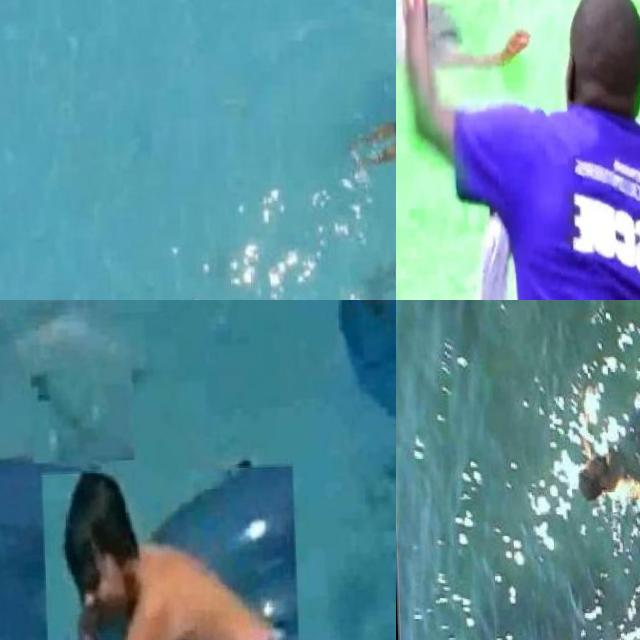drowning: (396, 0, 530, 94), (30, 366, 134, 464)
out of water: (415, 0, 640, 300)
swimming: (40, 463, 301, 640), (338, 6, 396, 196), (554, 414, 640, 517), (357, 300, 396, 372)
